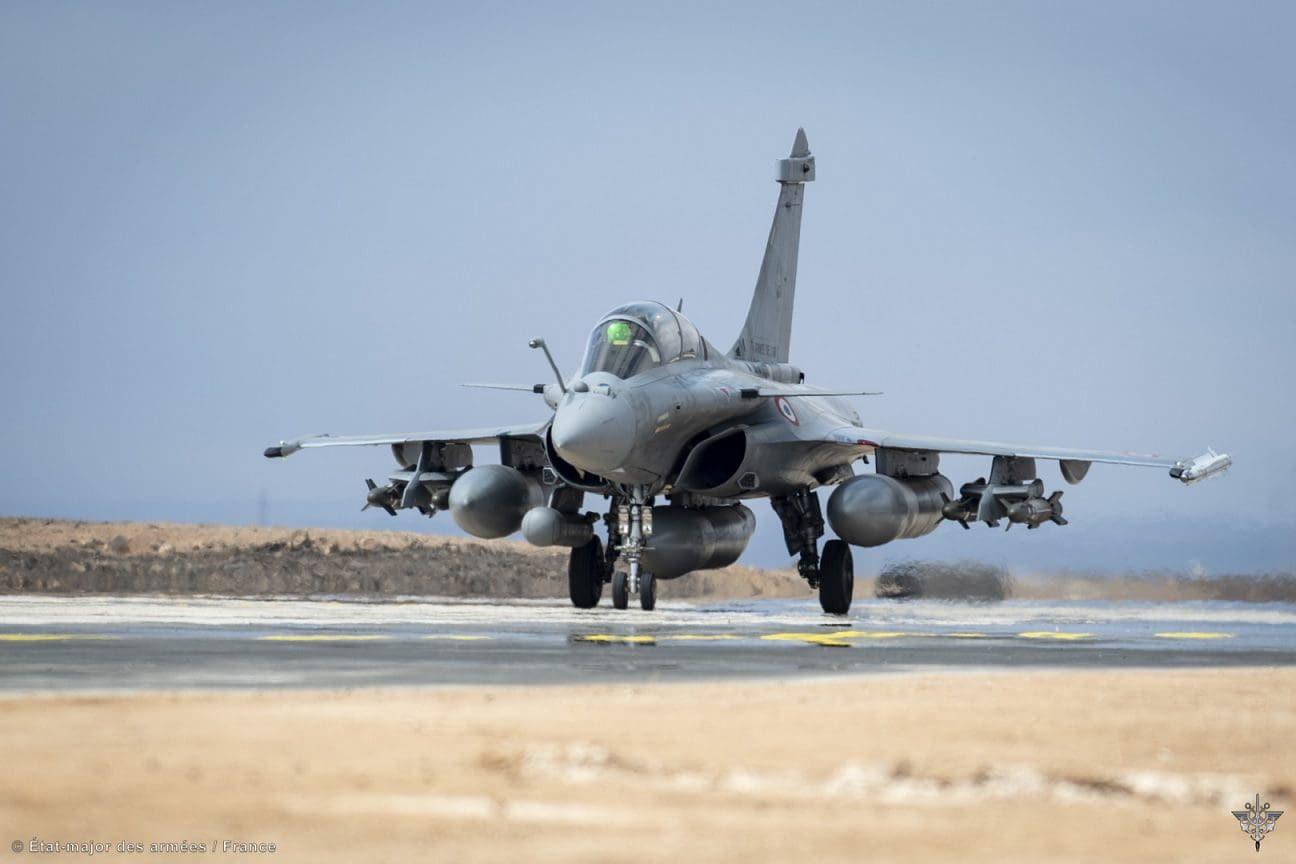Rafale: (261, 126, 1235, 615)
